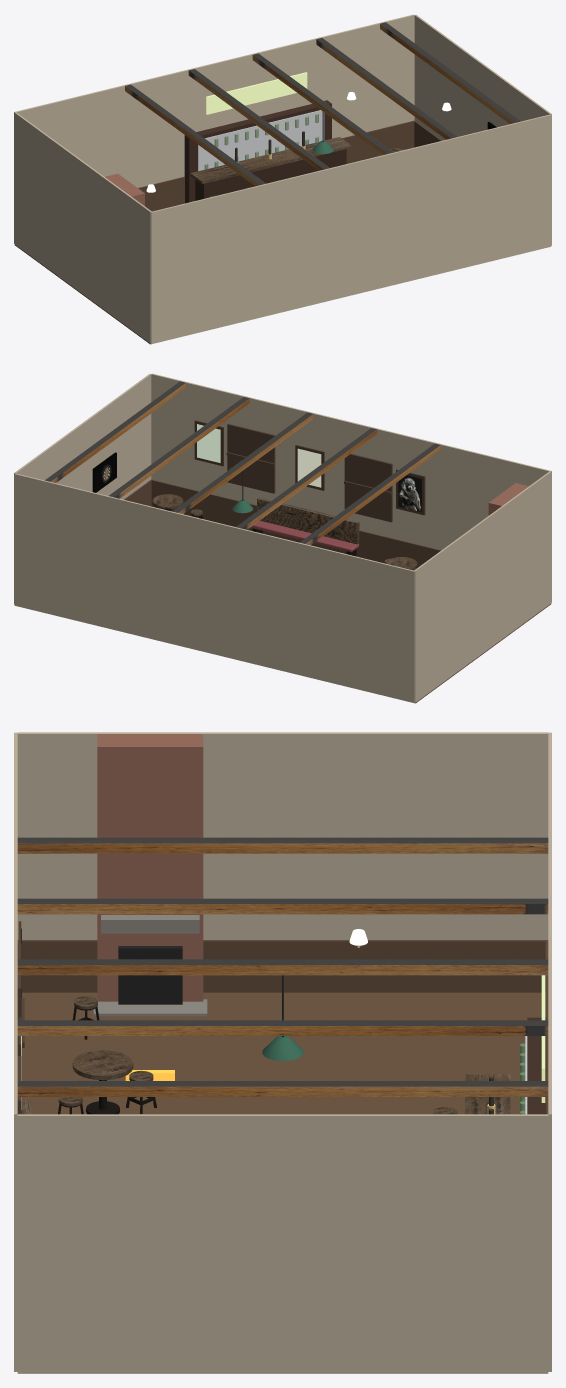
File: fuzeball_room_pub.glb
3 renders of one model, top to bottom at view 1: azimuth 30°, elevation 25°; view 2: azimuth 150°, elevation 25°; view 3: azimuth 270°, elevation 25°, orthographic. The views are drawn at different scales.
Parts seen in each view (by area): view 1: room_wall_front, room_wall_back, room_wall_left, room_wall_right, room_mirror, room_wainscot_b, room_bar_body, room_backbar, room_bar_top, room_beam_2, room_beam_3, room_beam_4 (+6 smaller); view 2: room_wall_back, room_wall_front, room_wall_left, room_wall_right, room_wainscot_f, room_bench, room_window_1, room_window_2, room_beam_2, room_beam_3, room_beam_4, room_beam_1 (+7 smaller); view 3: room_wall_right, room_wall_left, room_floor, room_chimney, room_wainscot_l, room_beam_1, room_beam_3, room_beam_2, room_beam_4, room_beam_5, room_firebox, room_wall_back (+8 smaller).
Boxes of the visible parts, x1=… form: room_wall_front: x1=150, y1=114, x2=551, y2=344; room_wall_back: x1=14, y1=14, x2=414, y2=243; room_wall_left: x1=14, y1=112, x2=151, y2=343; room_wall_right: x1=414, y1=15, x2=551, y2=245; room_mirror: x1=198, y1=110, x2=324, y2=171; room_wainscot_b: x1=138, y1=121, x2=414, y2=211; room_bar_body: x1=195, y1=149, x2=346, y2=200; room_backbar: x1=184, y1=100, x2=331, y2=203; room_bar_top: x1=190, y1=137, x2=351, y2=184; room_beam_2: x1=188, y1=69, x2=329, y2=170; room_beam_3: x1=252, y1=53, x2=393, y2=155; room_beam_4: x1=316, y1=38, x2=456, y2=139; room_wall_back: x1=14, y1=473, x2=415, y2=703; room_wall_front: x1=151, y1=373, x2=551, y2=602; room_wall_left: x1=414, y1=471, x2=551, y2=702; room_wall_right: x1=14, y1=374, x2=151, y2=604; room_wainscot_f: x1=151, y1=479, x2=440, y2=570; room_bench: x1=250, y1=497, x2=359, y2=556; room_window_1: x1=344, y1=453, x2=392, y2=522; room_window_2: x1=226, y1=424, x2=275, y2=493; room_beam_2: x1=236, y1=428, x2=377, y2=529; room_beam_3: x1=172, y1=412, x2=313, y2=514; room_beam_4: x1=109, y1=397, x2=249, y2=498; room_beam_1: x1=300, y1=443, x2=440, y2=545; room_wall_right: x1=17, y1=1114, x2=548, y2=1373; room_wall_left: x1=17, y1=732, x2=548, y2=939; room_floor: x1=18, y1=992, x2=547, y2=1373; room_chimney: x1=97, y1=734, x2=203, y2=1001; room_wainscot_l: x1=17, y1=940, x2=547, y2=992; room_beam_1: x1=17, y1=837, x2=548, y2=853; room_beam_3: x1=17, y1=959, x2=548, y2=975; room_beam_2: x1=17, y1=898, x2=548, y2=914; room_beam_4: x1=17, y1=1020, x2=548, y2=1035; room_beam_5: x1=17, y1=1081, x2=548, y2=1096; room_firebox: x1=118, y1=946, x2=182, y2=1004; room_wall_back: x1=548, y1=732, x2=551, y2=1371.
Size of the model in its own units: 479 by 151 by 284.
34 materials, 8 textured.
